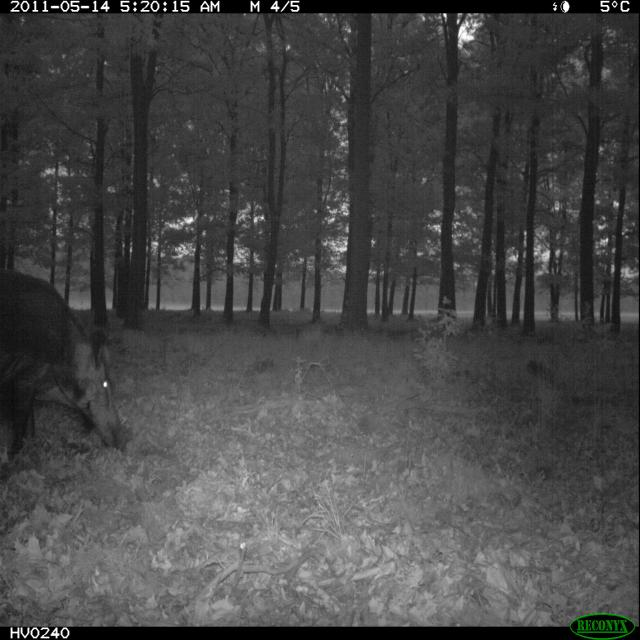boar: (0, 256, 145, 484)
